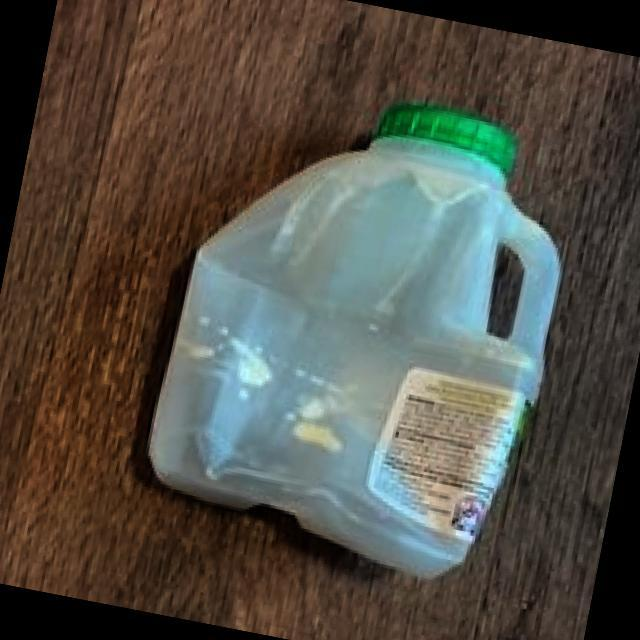HDPE Plastic: (146, 100, 568, 582)
